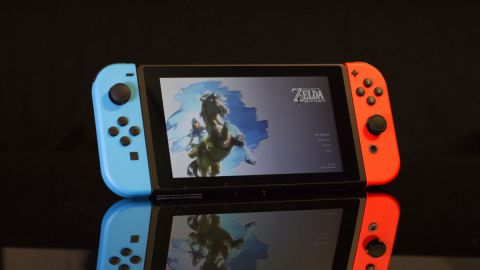NintendoSwitch: (86, 59, 407, 201)
